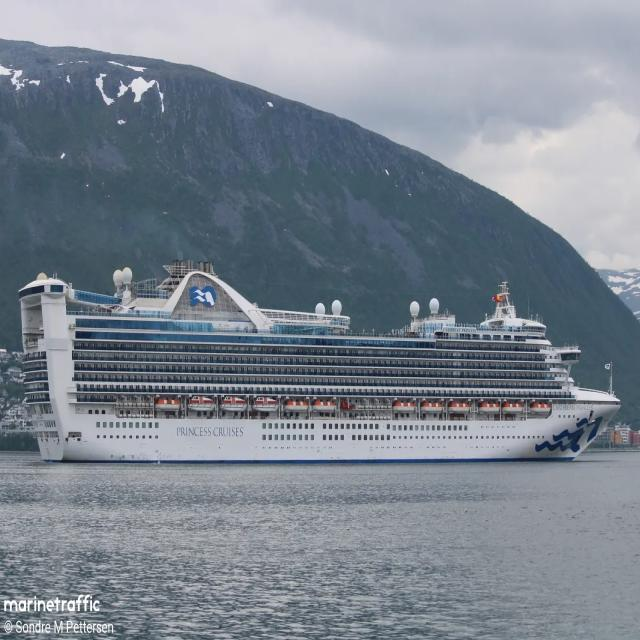Cruise: (19, 261, 620, 462)
